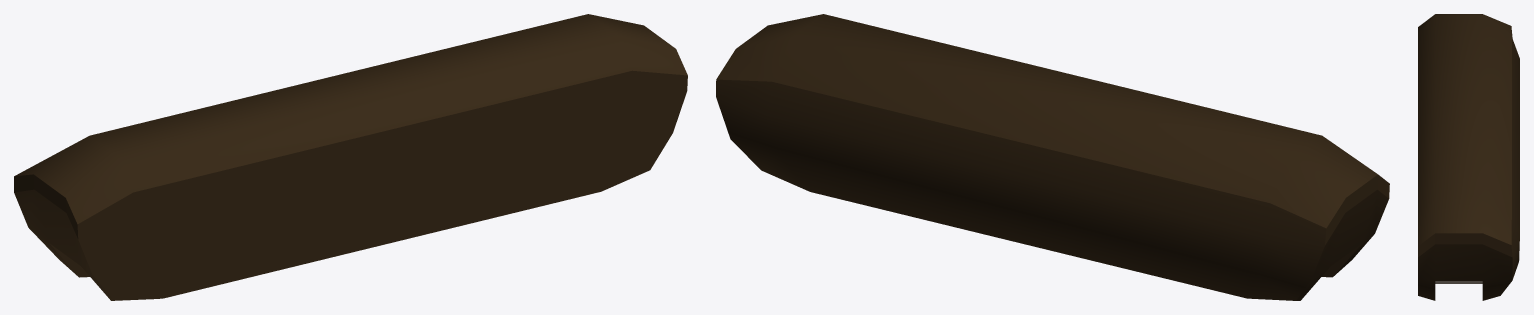
The model's file is Module_Ss_asset_Li_2.FBX.
The picture shows the model from 3 angles, left to right: view 1: azimuth 30°, elevation 25°; view 2: azimuth 150°, elevation 25°; view 3: azimuth 270°, elevation 25°; orthographic projection. The views are drawn at different scales.
Visible parts, largest first — view 1: Module_Ss_asset_Li_2; view 2: Module_Ss_asset_Li_2; view 3: Module_Ss_asset_Li_2.
Boxes of the visible parts, x1,y1,x2,y2 form: Module_Ss_asset_Li_2: (14,14,687,300); Module_Ss_asset_Li_2: (716,14,1389,300); Module_Ss_asset_Li_2: (1418,14,1519,300).
Size of the model in its own units: 24.34 by 5.67 by 4.78.
